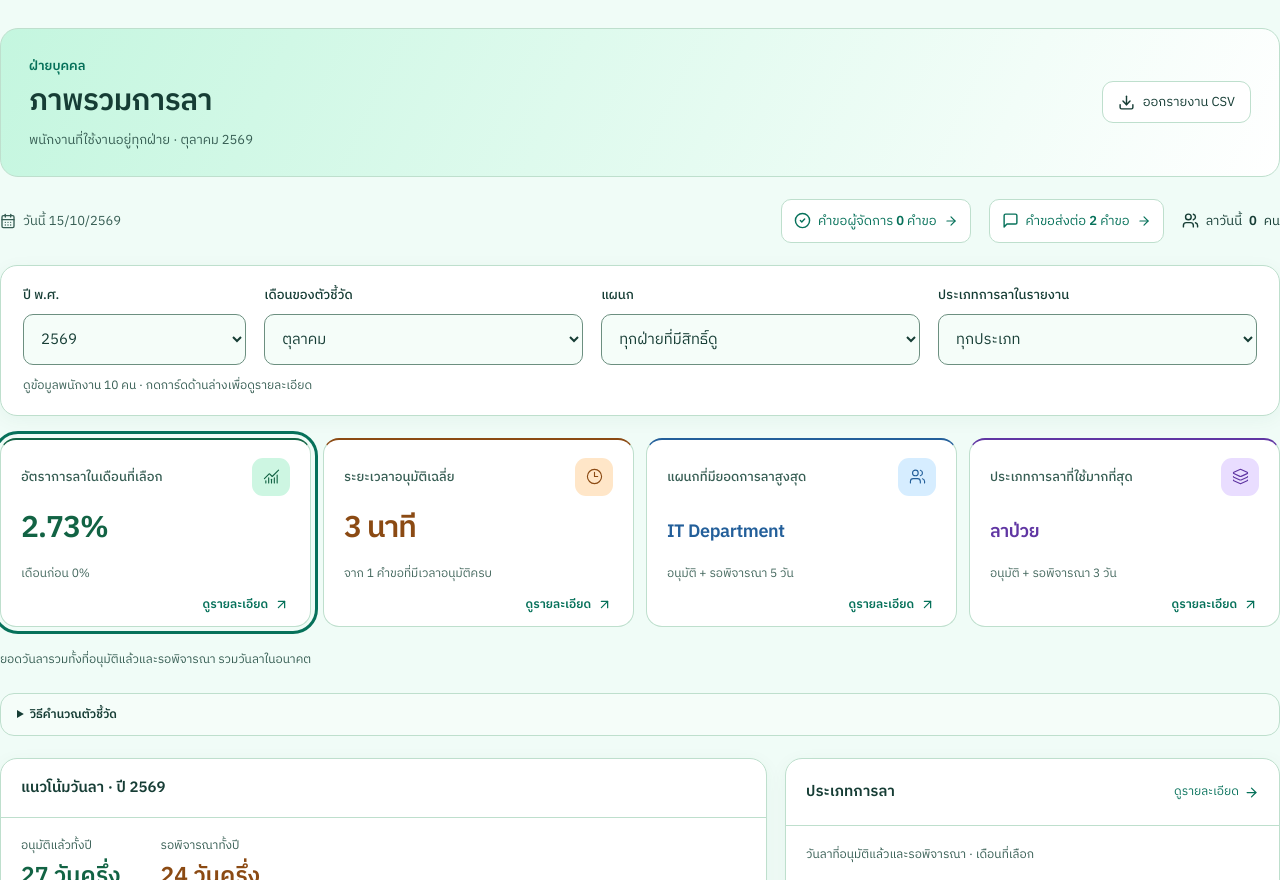
KPI อัตราการลาในเดือนที่เลือก opens a closable dialog and restores focus and filters
Click the button with aria-label "ดูรายละเอียดอัตราการลาในเดือนที่เลือก" at (156, 532), box [0,438,311,627]
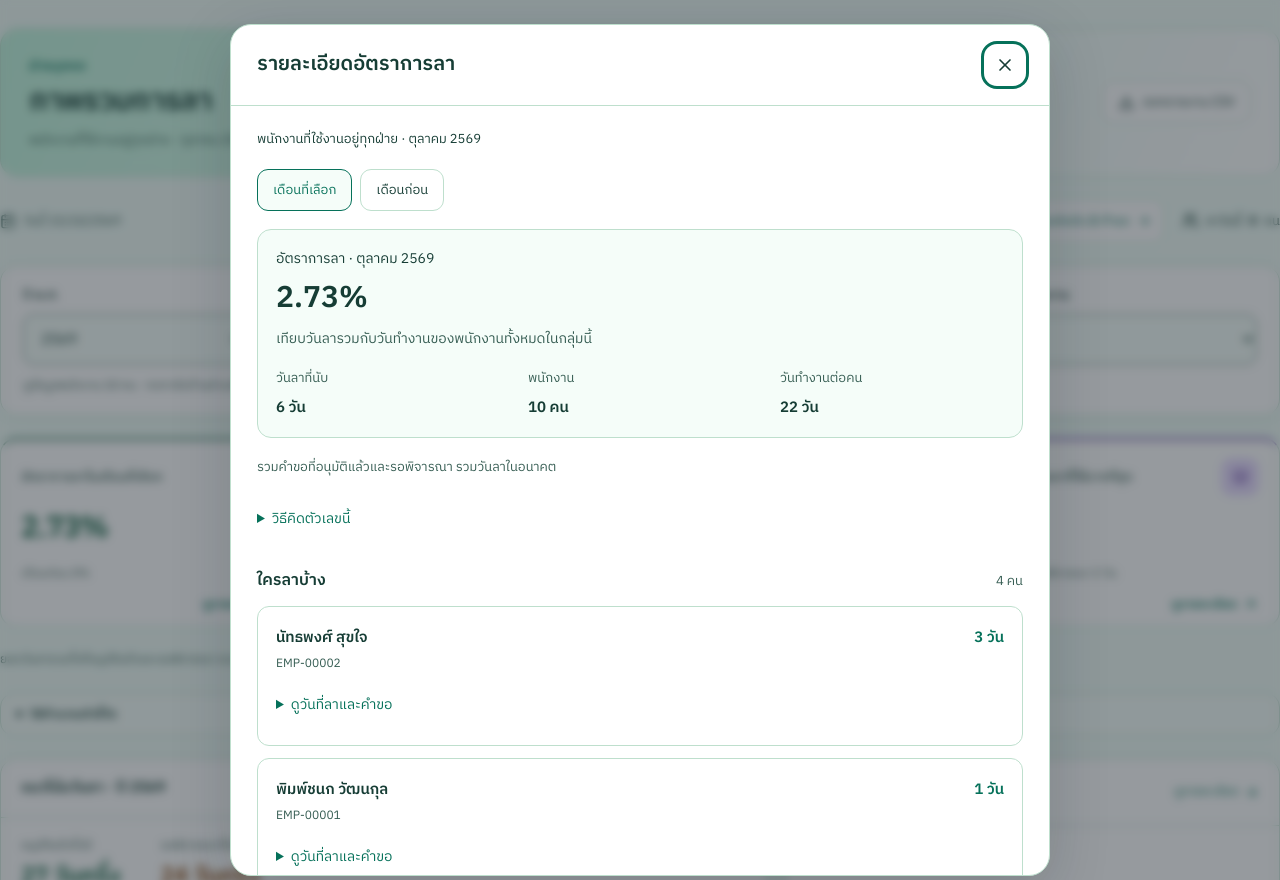
Result: the dialog "รายละเอียดอัตราการลา" is shown
Click the button named "ปิด" at (1005, 65), box [987,47,1023,83]
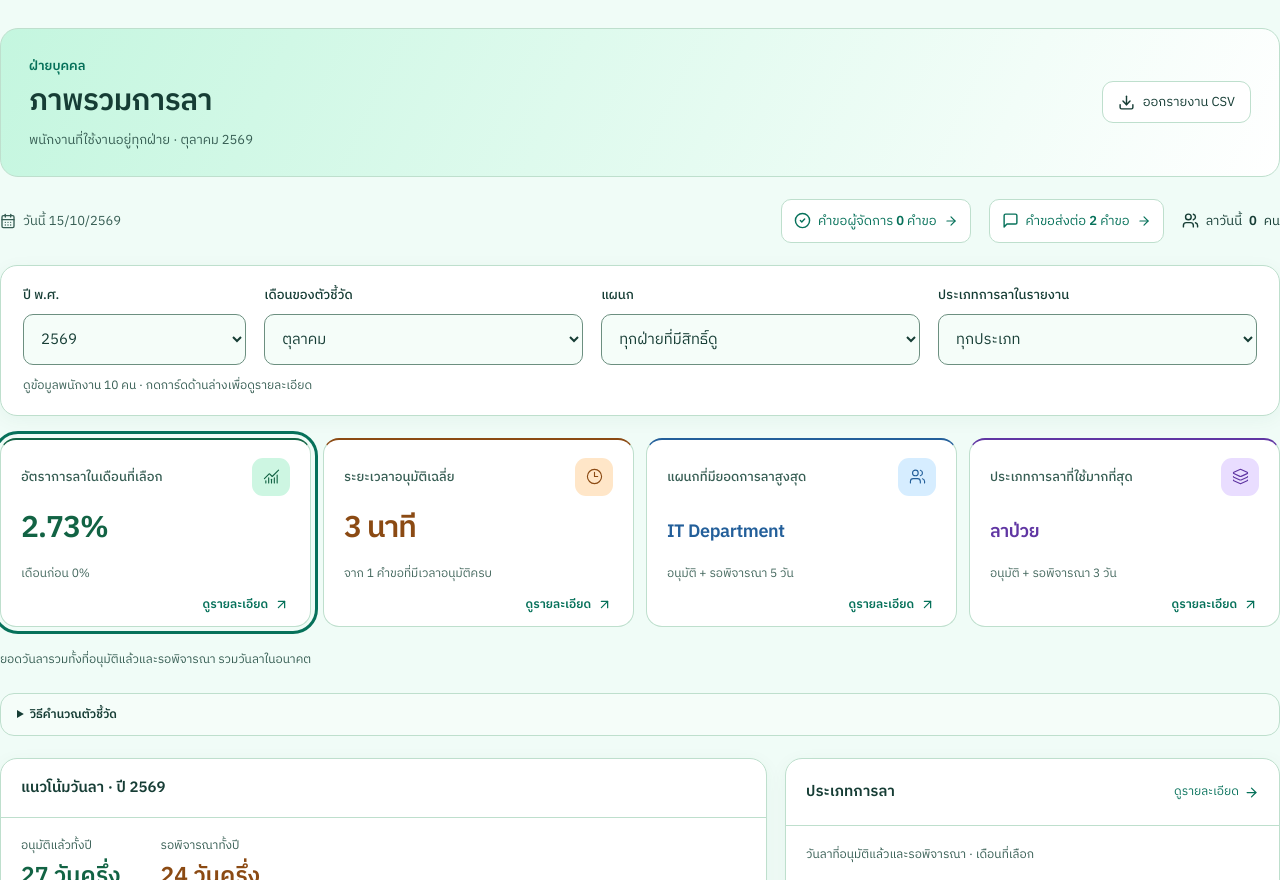
Expected: the dropdown labelled "เดือนของตัวชี้วัด" shows "ตุลาคม", [264,314,583,365]
Result: the dialog is gone
